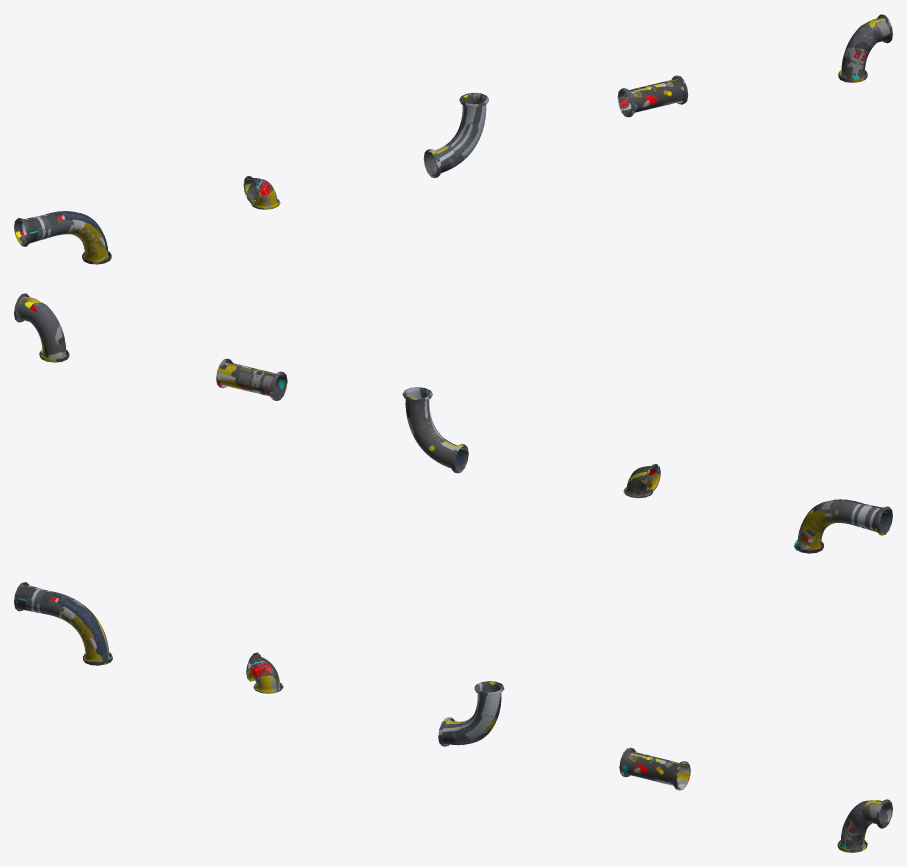
The model's file is Pipes.fbx.
3 renders of one model, top to bottom at view 1: azimuth 30°, elevation 25°; view 2: azimuth 150°, elevation 25°; view 3: azimuth 330°, elevation 25°, orthographic.
Parts seen in each view (by area): view 1: Modular_House_pieces_17; view 2: Modular_House_pieces_17; view 3: Modular_House_pieces_17.
Boxes of the visible parts, x1,y1,x2,y2 form: Modular_House_pieces_17: (14, 14, 892, 264); Modular_House_pieces_17: (14, 293, 892, 553); Modular_House_pieces_17: (14, 582, 892, 852).
Bounding box in the file's own units: 1014 × 76.6 × 50.21.
Materials: 1 (1 with a texture image).
